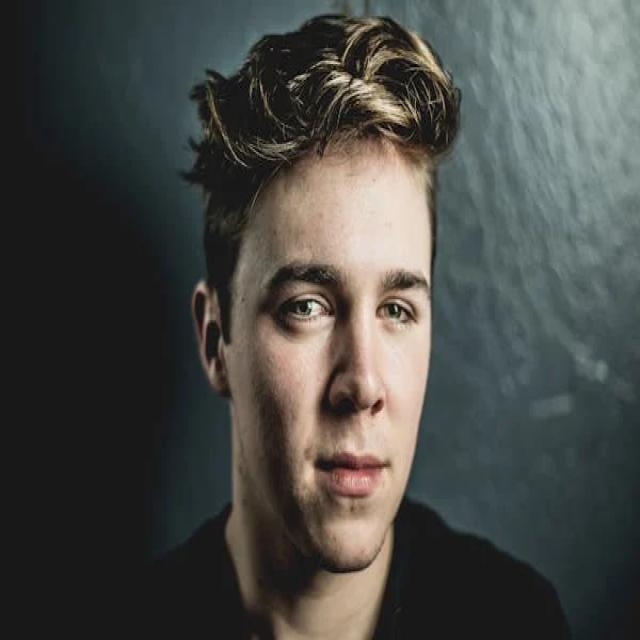no_mask: (219, 60, 436, 584)
